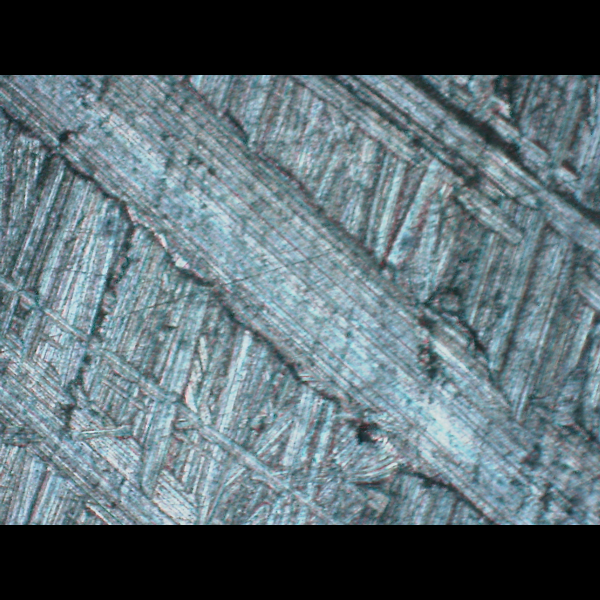d: (0, 74, 597, 523), (242, 74, 599, 318)
